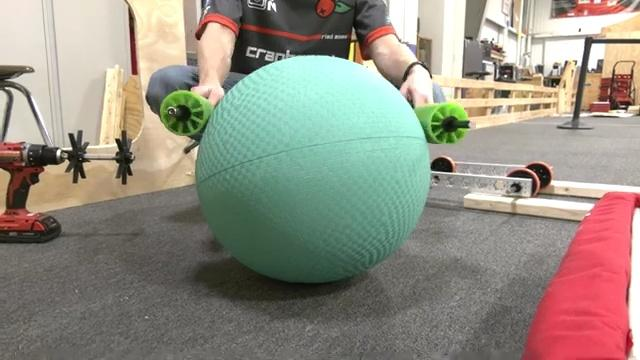ALGAE: (194, 53, 431, 284)
